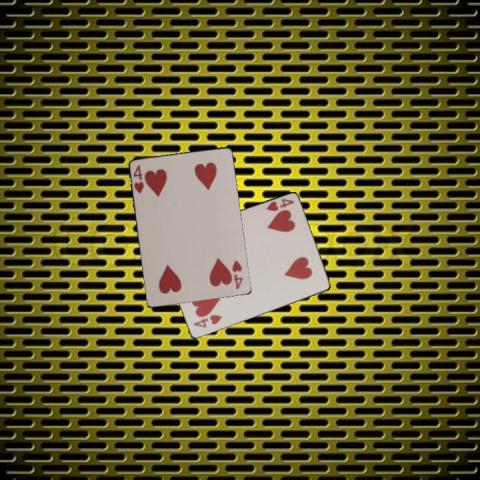4h: (190, 312, 223, 329), (263, 196, 295, 213), (230, 257, 244, 291), (131, 162, 145, 195)
